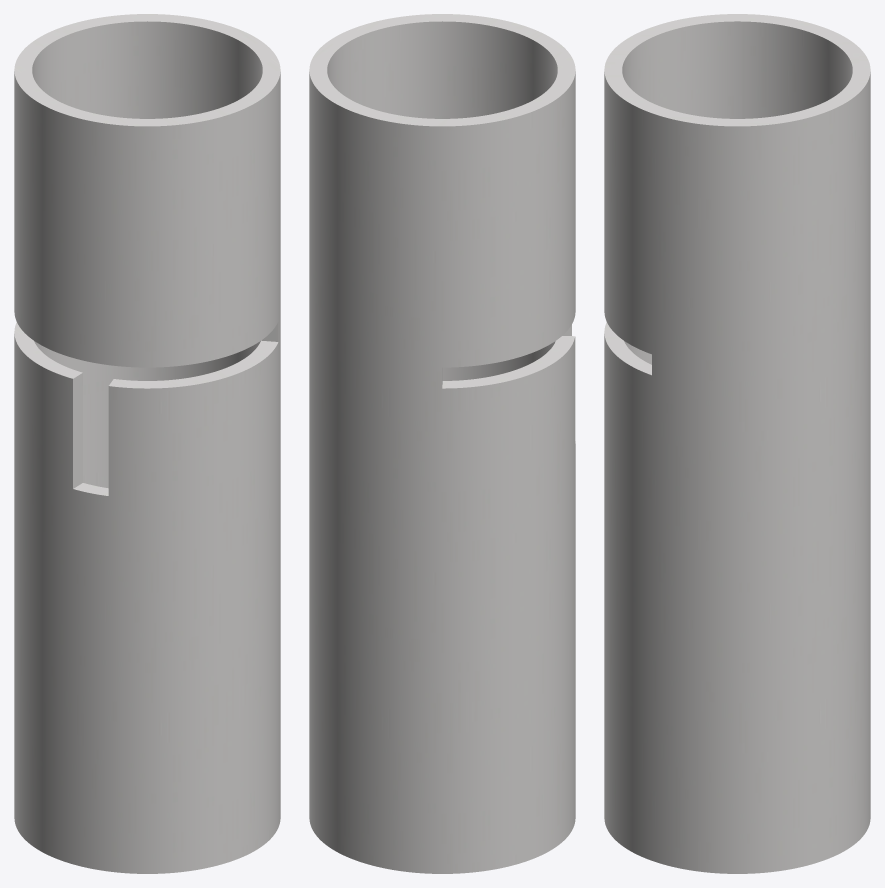
Rendered from queen-white.glb.
3 renders of one model, left to right at view 1: azimuth 30°, elevation 25°; view 2: azimuth 150°, elevation 25°; view 3: azimuth 270°, elevation 25°, orthographic.
Parts seen in each view (by area): view 1: 03_dama_bila; view 2: 03_dama_bila; view 3: 03_dama_bila.
Part boxes in pixels (x1,y1,x2,y2): 03_dama_bila: (14, 14, 280, 873); 03_dama_bila: (309, 14, 575, 873); 03_dama_bila: (604, 14, 870, 873).
Bounding box in the file's own units: 0.4677 × 1.45 × 0.4677.
Materials: 1 (1 with a texture image).
